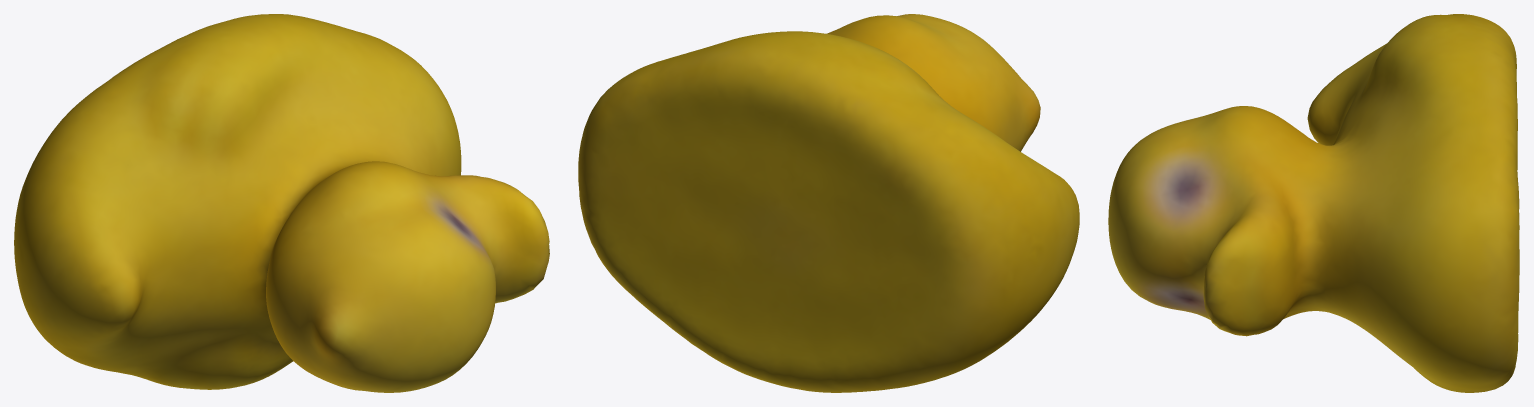
The picture shows the model from 3 angles, left to right: view 1: azimuth 30°, elevation 25°; view 2: azimuth 150°, elevation 25°; view 3: azimuth 270°, elevation 25°; orthographic projection. The views are drawn at different scales.
Bounding box in the file's own units: 0.1044 × 0.0774 × 0.0857.
